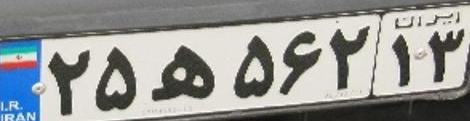character: (144, 34, 218, 109), (226, 30, 280, 104), (44, 44, 93, 118), (93, 44, 142, 116), (278, 26, 325, 99), (327, 20, 371, 93), (426, 26, 466, 86), (388, 32, 420, 91)
